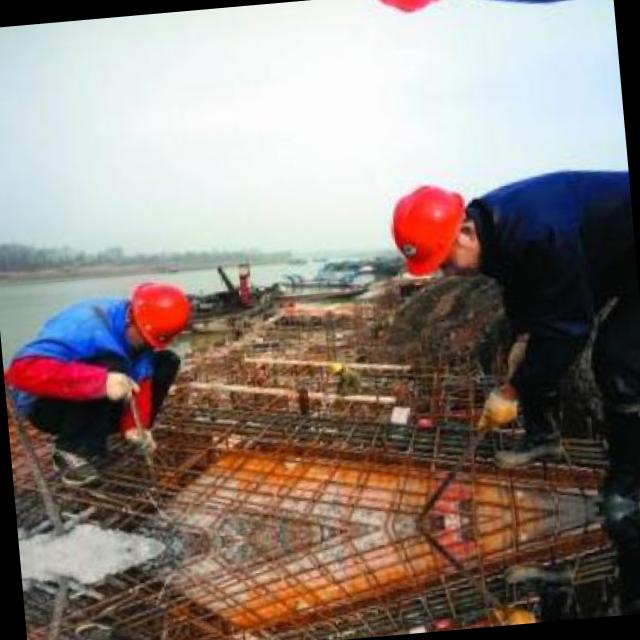helmet: (383, 176, 485, 280), (120, 270, 200, 352), (366, 0, 463, 20)
